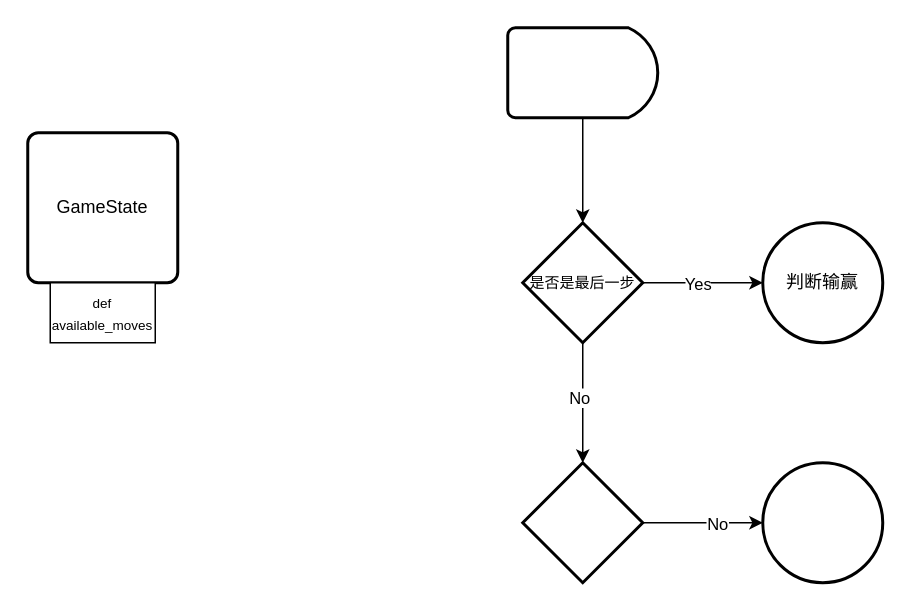
Some shapes in this 909 by 609 pixel diagram are drawn without their labels. The shapes that lost their labels are listed below. From the top down, each one's box as (x1, y1, x2, y2) in pixels, then its label:
(506, 26, 658, 118): 某GameState作为root节点
(520, 460, 644, 584): 是否完全展开
